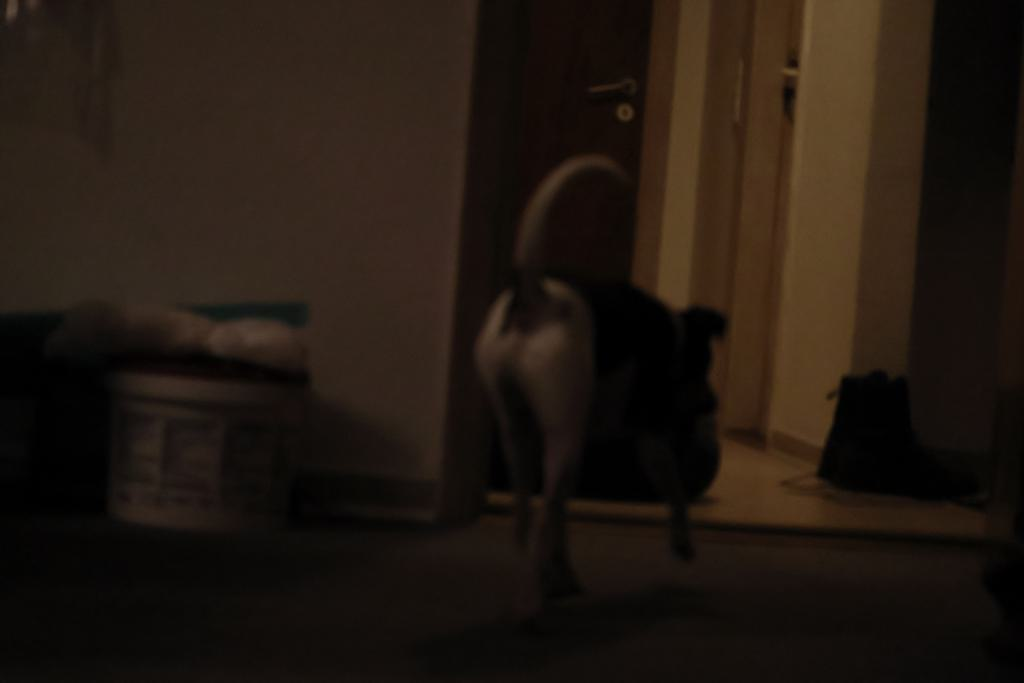Dog: (462, 145, 734, 612)
